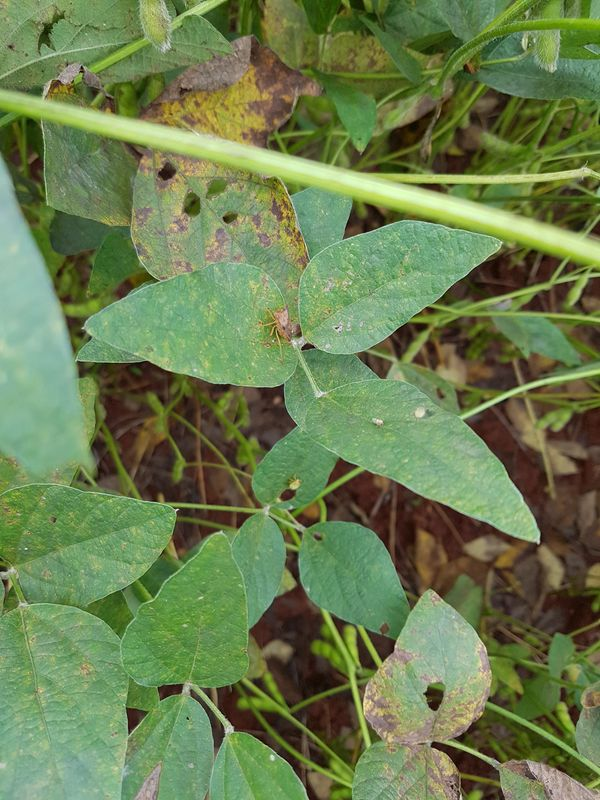Euschistus_heros_adulto: (255, 302, 304, 355)
Euschistus_heros_ninfa: (284, 474, 304, 495)
